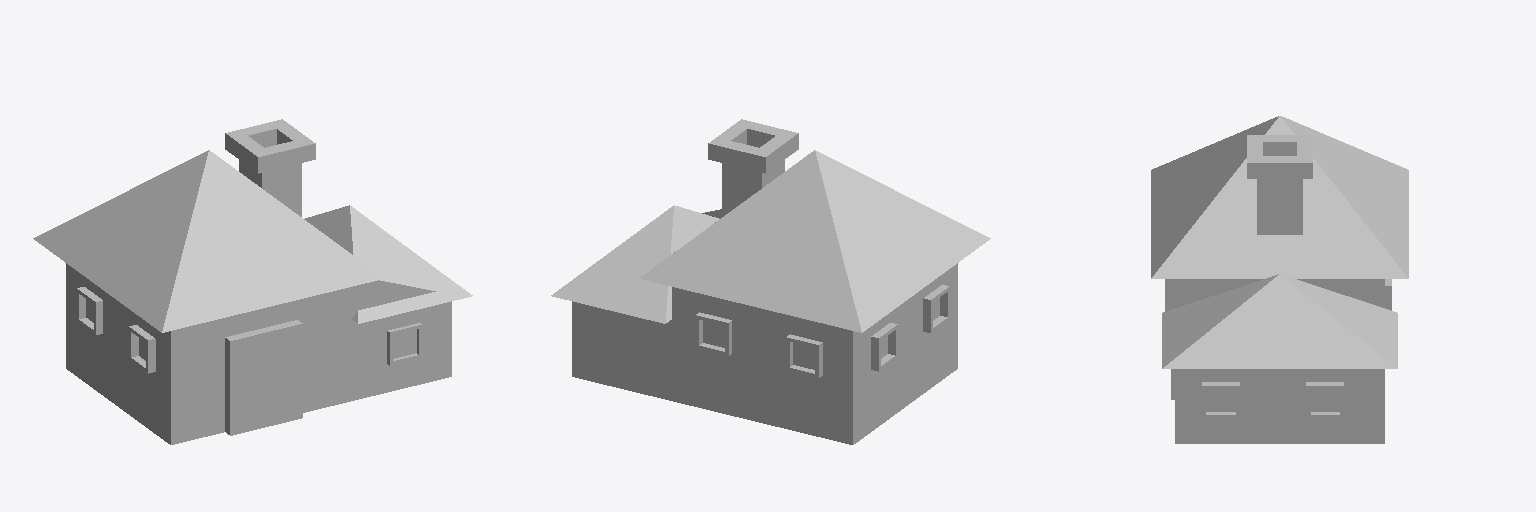
File: bigHouse.obj
3 renders of one model, left to right at view 1: azimuth 30°, elevation 25°; view 2: azimuth 150°, elevation 25°; view 3: azimuth 270°, elevation 25°, orthographic.
Visible parts, largest first — view 1: bigHouse_Cube.035; view 2: bigHouse_Cube.035; view 3: bigHouse_Cube.035.
Part boxes in pixels (bbox=[...]): bigHouse_Cube.035: bbox=[33, 119, 472, 444]; bigHouse_Cube.035: bbox=[551, 119, 990, 444]; bigHouse_Cube.035: bbox=[1151, 116, 1408, 443].
Bounding box in the file's own units: 3.94 × 2.79 × 2.77.